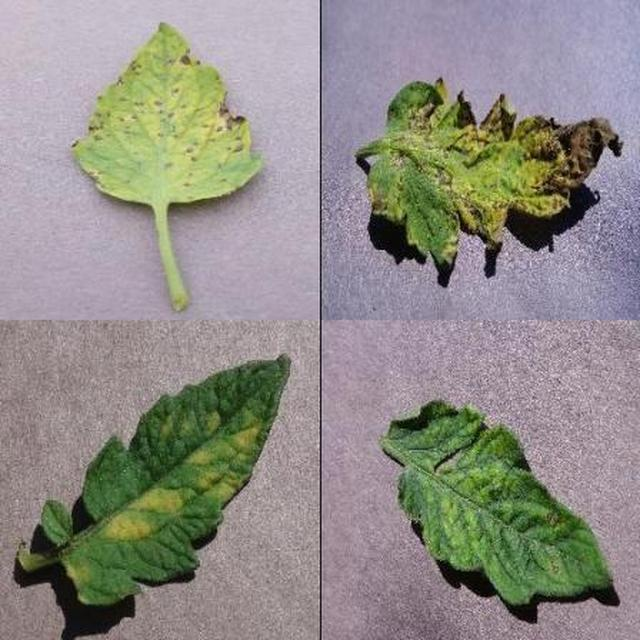Septoria Leaf: (238, 161, 640, 640)
